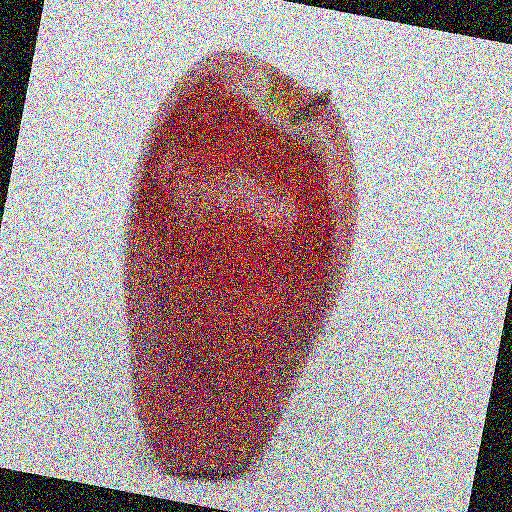fruit: (25, 72, 222, 423)
